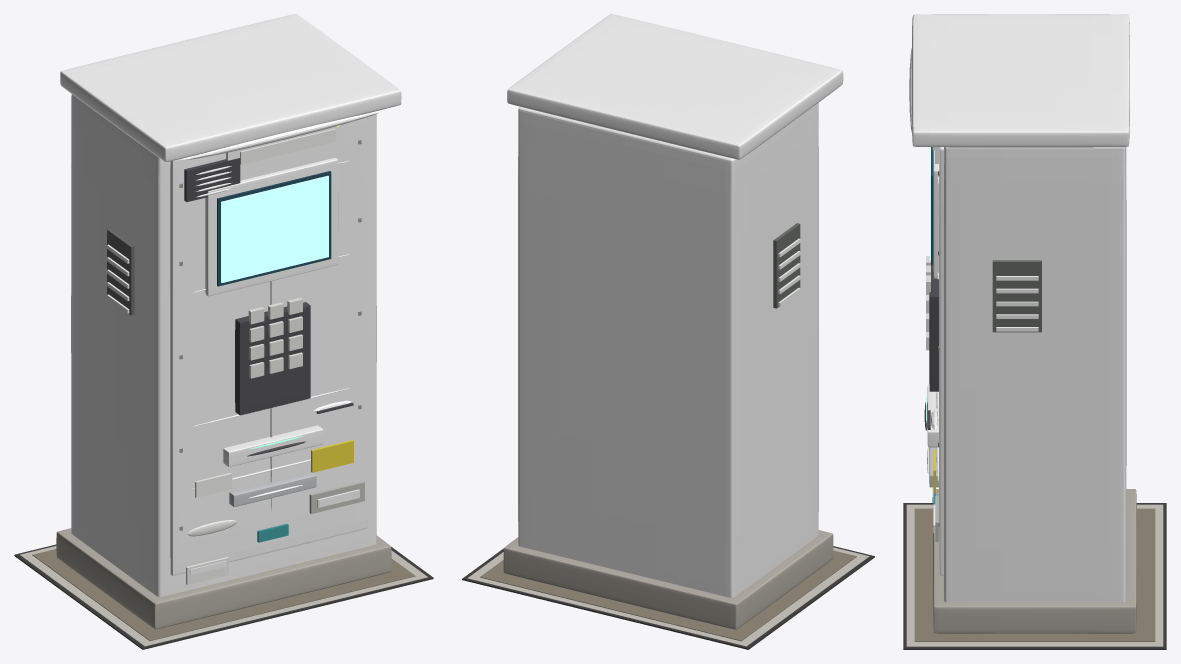
Rendered from hm_prop_atm_v2.glb.
The picture shows the model from 3 angles, left to right: view 1: azimuth 30°, elevation 25°; view 2: azimuth 150°, elevation 25°; view 3: azimuth 270°, elevation 25°; orthographic projection. The views are drawn at different scales.
Parts seen in each view (by area): view 1: ATM_Body, ATM_Face, ATM_Hood, ATM_Base, ATM_Glow, ATM_Pad, hm_prop_atm_v2_Dirt, ATM_Bezel, hm_prop_atm_v2_SaltRing, hm_prop_atm_v2_Shadow, ATM_SlotHouse, ATM_Speaker (+10 smaller); view 2: ATM_Body, ATM_Hood, ATM_Base, hm_prop_atm_v2_Dirt, hm_prop_atm_v2_SaltRing, hm_prop_atm_v2_Shadow, ATM_Vent_-1; view 3: ATM_Body, ATM_Hood, ATM_Base, hm_prop_atm_v2_Dirt, hm_prop_atm_v2_SaltRing, ATM_Vent_1, hm_prop_atm_v2_Shadow, ATM_Face, ATM_Pad, ATM_Bezel, ATM_SlotHouse.
Boxes of the visible parts, box(x1,y1,x2,y2) form: ATM_Body: box(71, 94, 376, 596); ATM_Face: box(170, 117, 367, 575); ATM_Hood: box(60, 14, 401, 161); ATM_Base: box(56, 528, 391, 629); ATM_Glow: box(221, 175, 328, 282); ATM_Pad: box(235, 302, 310, 415); hm_prop_atm_v2_Dirt: box(32, 549, 415, 640); ATM_Bezel: box(205, 158, 338, 296); hm_prop_atm_v2_SaltRing: box(20, 546, 427, 646); hm_prop_atm_v2_Shadow: box(14, 544, 433, 649); ATM_SlotHouse: box(223, 425, 323, 466); ATM_Speaker: box(184, 158, 240, 201); ATM_Body: box(518, 103, 818, 597); ATM_Hood: box(507, 14, 843, 159); ATM_Base: box(503, 530, 833, 629); hm_prop_atm_v2_Dirt: box(480, 550, 856, 641); hm_prop_atm_v2_SaltRing: box(467, 547, 869, 646); hm_prop_atm_v2_Shadow: box(462, 546, 874, 649); ATM_Vent_-1: box(773, 223, 800, 308); ATM_Body: box(943, 147, 1126, 602); ATM_Hood: box(911, 14, 1129, 147); ATM_Base: box(933, 489, 1136, 633); hm_prop_atm_v2_Dirt: box(914, 508, 1155, 641); hm_prop_atm_v2_SaltRing: box(906, 504, 1163, 646); ATM_Vent_1: box(992, 260, 1041, 332); hm_prop_atm_v2_Shadow: box(903, 503, 1166, 649); ATM_Face: box(939, 147, 943, 575); ATM_Pad: box(929, 265, 938, 391); ATM_Bezel: box(933, 147, 939, 278); ATM_SlotHouse: box(927, 384, 938, 447).
Bounding box in the file's own units: 0.9775 × 1.58 × 0.7475.
